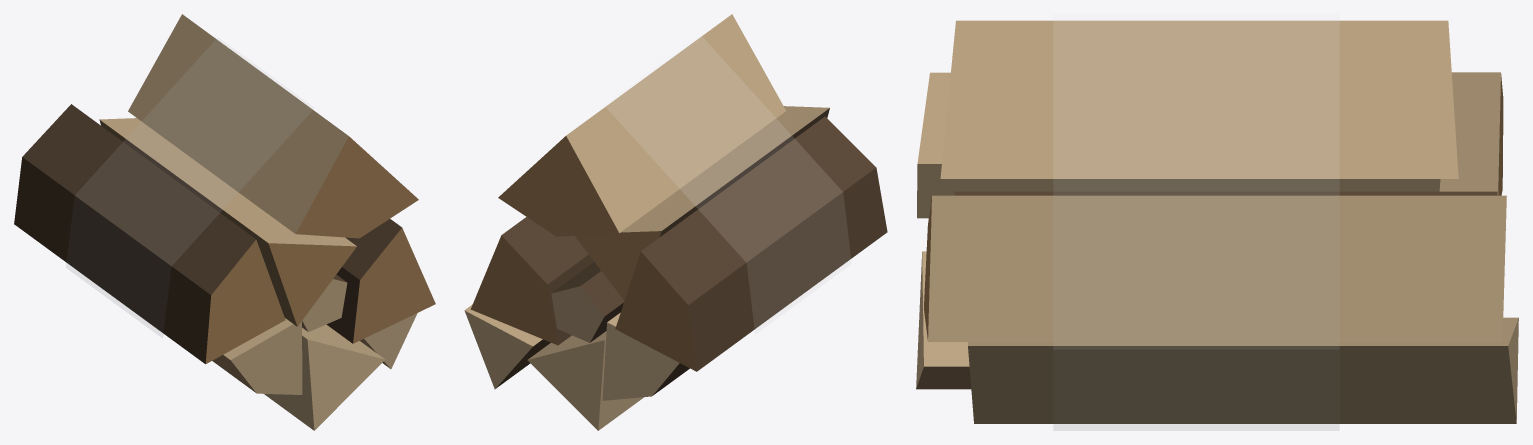
The model's file is firewood-bundle-b.glb.
3 renders of one model, left to right at view 1: azimuth 30°, elevation 25°; view 2: azimuth 150°, elevation 25°; view 3: azimuth 270°, elevation 25°, orthographic. The views are drawn at different scales.
Parts seen in each view (by area): view 1: firewood-bundle-b; view 2: firewood-bundle-b; view 3: firewood-bundle-b.
Part boxes in pixels (x1=…): firewood-bundle-b: x1=14, y1=14, x2=435, y2=430; firewood-bundle-b: x1=464, y1=14, x2=887, y2=430; firewood-bundle-b: x1=916, y1=20, x2=1518, y2=423.
Size of the model in its own units: 0.2916 by 0.3283 by 0.4317.
